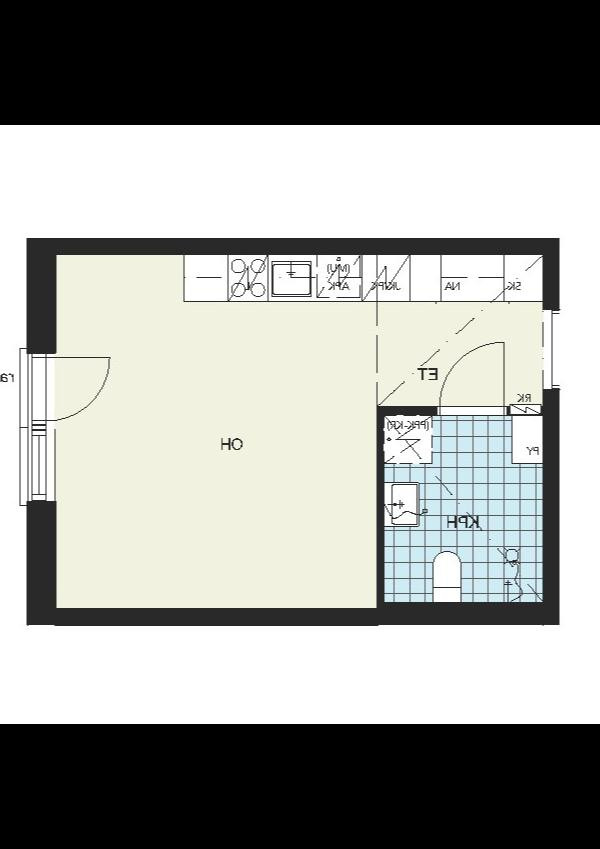bathroom: (380, 412, 544, 602)
door: (20, 350, 110, 422), (432, 338, 512, 418)
perimeter: (27, 237, 560, 625)
window: (18, 418, 58, 509), (537, 301, 565, 395)
